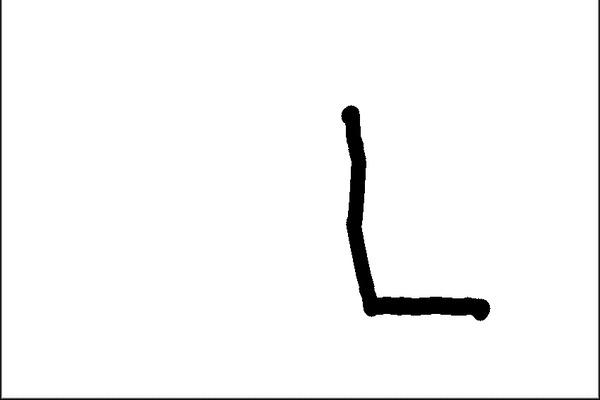L: (332, 95, 496, 325)
